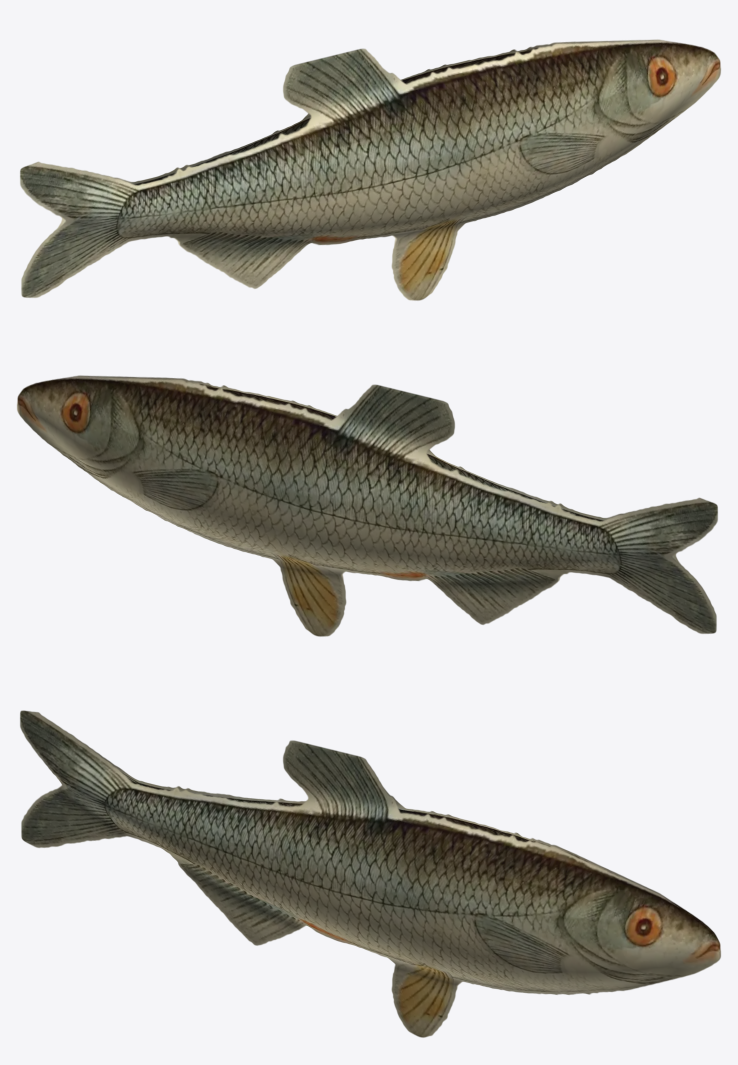
File: ablette.glb
The picture shows the model from 3 angles, top to bottom: view 1: azimuth 30°, elevation 25°; view 2: azimuth 150°, elevation 25°; view 3: azimuth 330°, elevation 25°; orthographic projection.
Visible parts, largest first — view 1: ablette; view 2: ablette; view 3: ablette.
Boxes of the visible parts, bbox=[...] form: ablette: bbox=[20, 39, 720, 300]; ablette: bbox=[17, 375, 717, 636]; ablette: bbox=[20, 710, 720, 1037].
Size of the model in its own units: 1 by 0.3736 by 0.1118.
1 material, 1 textured.
